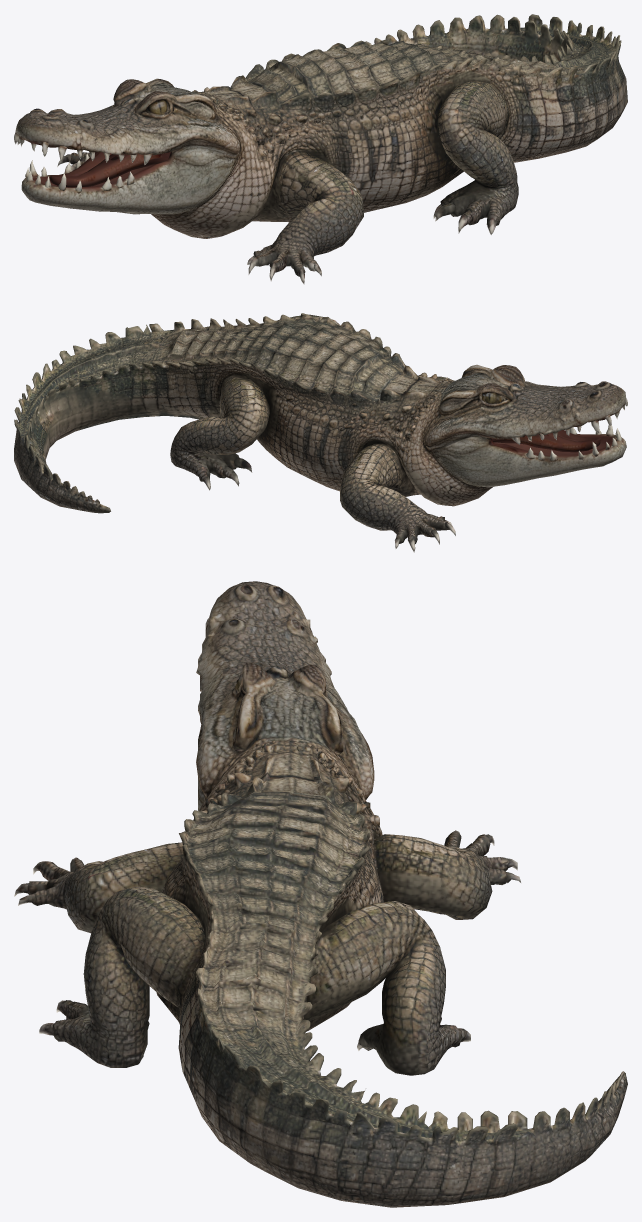
3 renders of one model, top to bottom at view 1: azimuth 30°, elevation 25°; view 2: azimuth 150°, elevation 25°; view 3: azimuth 270°, elevation 25°, orthographic. The views are drawn at different scales.
Visible parts, largest first — view 1: Model_0; view 2: Model_0; view 3: Model_0.
Part boxes in pixels (<box>): Model_0: <box>14,14,627,284</box>; Model_0: <box>14,313,627,552</box>; Model_0: <box>14,581,627,1207</box>.
Size of the model in its own units: 1 by 0.2603 by 0.6204.
Materials: 1 (1 with a texture image).
